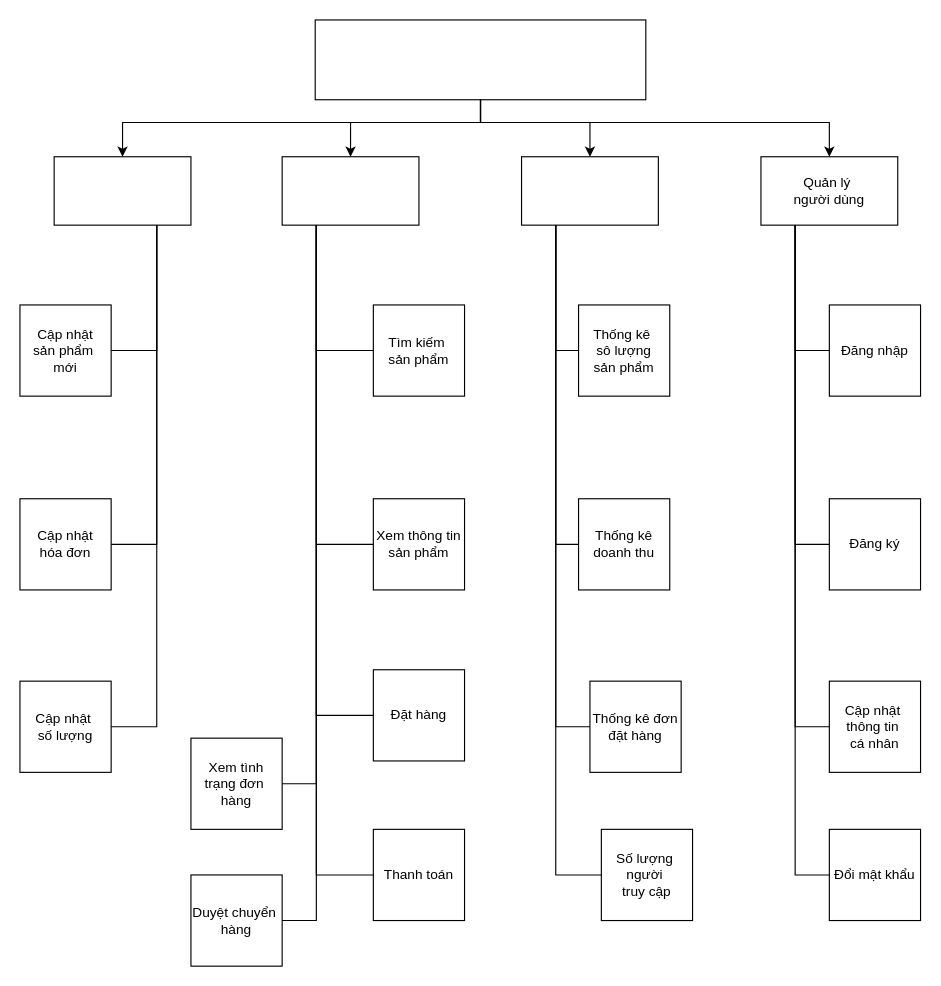
Image size: 941x986. Some labels were removed from this diagram. Here are the shapes that lost their labels. From the top down, the centre of each, then its label:
At point (480, 59): "QUẢN LÝ BÁN HÀNG ONLINE".
At point (122, 190): "Quản lý nhập hàng".
At point (350, 190): "Quản lý bán hàng".
At point (589, 190): "Báo cáo thống kê".
